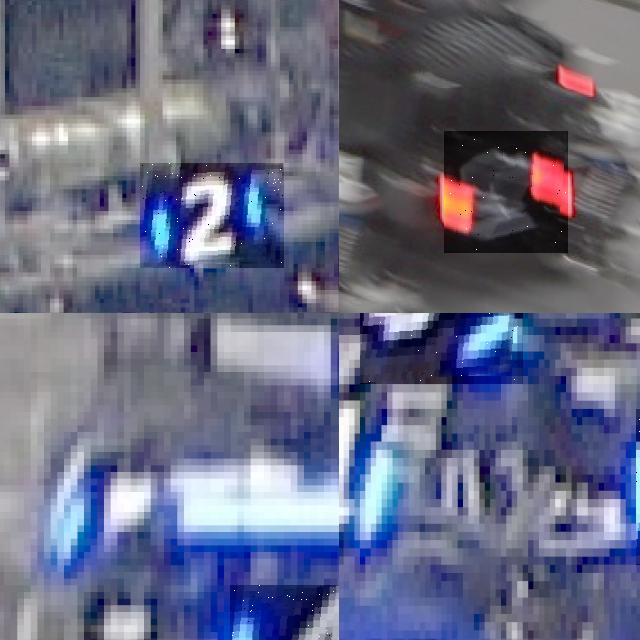B2: (140, 163, 284, 268)
B4: (360, 313, 522, 384), (339, 384, 397, 556), (230, 585, 339, 640)
Rs: (444, 131, 568, 253)
